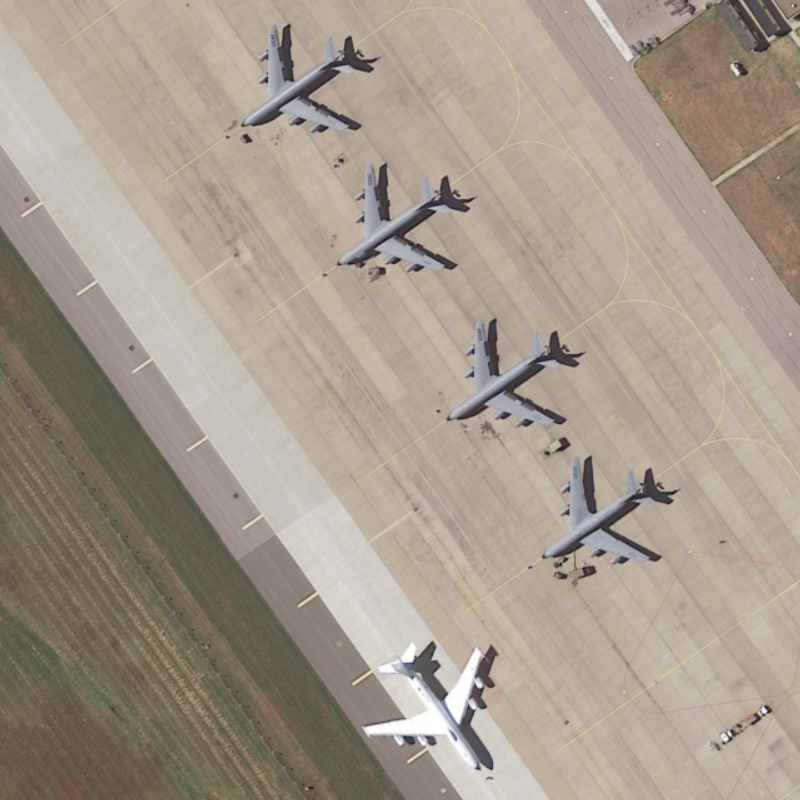A11: (358, 635, 510, 781)
A14: (330, 159, 471, 283), (537, 448, 674, 575), (237, 19, 370, 139), (445, 308, 571, 431)
